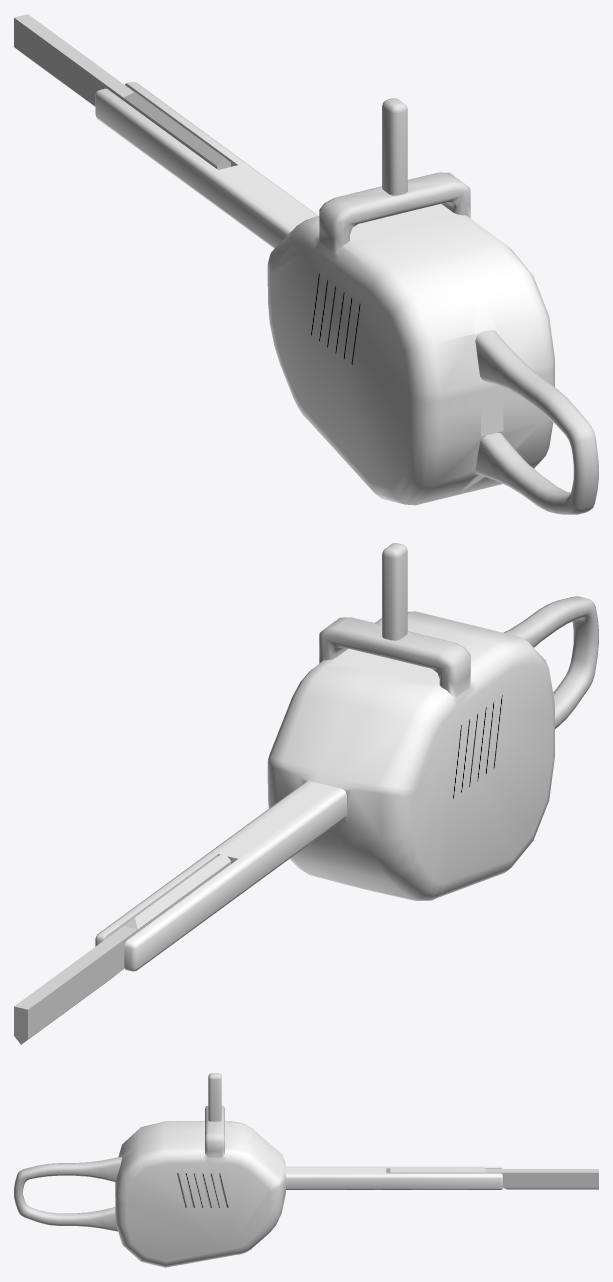
File: Motorblade.fbx
3 renders of one model, top to bottom at view 1: azimuth 30°, elevation 25°; view 2: azimuth 150°, elevation 25°; view 3: azimuth 270°, elevation 25°, orthographic. The views are drawn at different scales.
Parts seen in each view (by area): view 1: MotorBladeBody, MotorBlade; view 2: MotorBladeBody, MotorBlade; view 3: MotorBladeBody, MotorBlade.
Part boxes in pixels (x1=…): MotorBladeBody: x1=95, y1=82, x2=598, y2=514; MotorBlade: x1=14, y1=14, x2=230, y2=169; MotorBladeBody: x1=95, y1=543, x2=598, y2=971; MotorBlade: x1=14, y1=852, x2=230, y2=1044; MotorBladeBody: x1=14, y1=1073, x2=502, y2=1267; MotorBlade: x1=390, y1=1167, x2=598, y2=1189.
Size of the model in its own units: 20.19 by 47.47 by 140.
